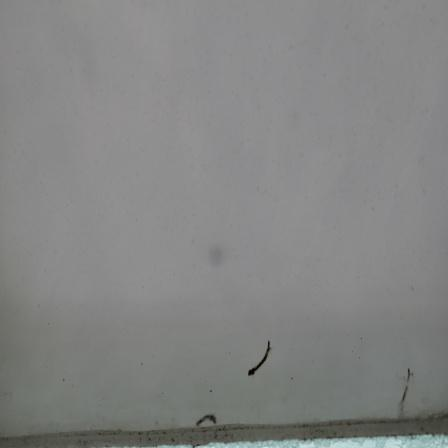Jentik-Nyamuk: (244, 337, 274, 380), (193, 409, 220, 428)
